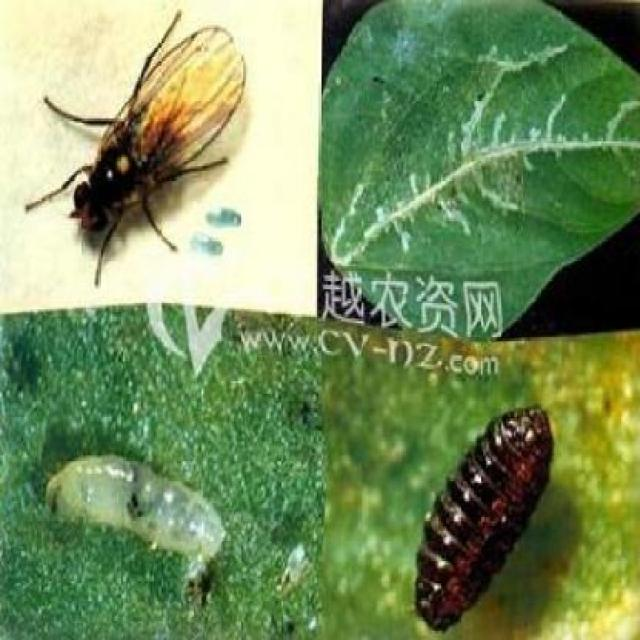whorl-maggot: (398, 402, 562, 638), (44, 445, 233, 581)
